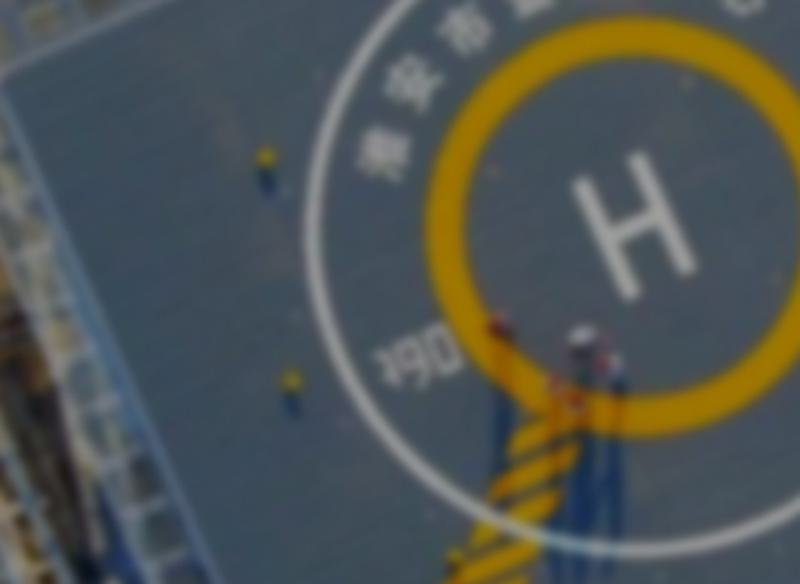Apron: (440, 15, 779, 421)
